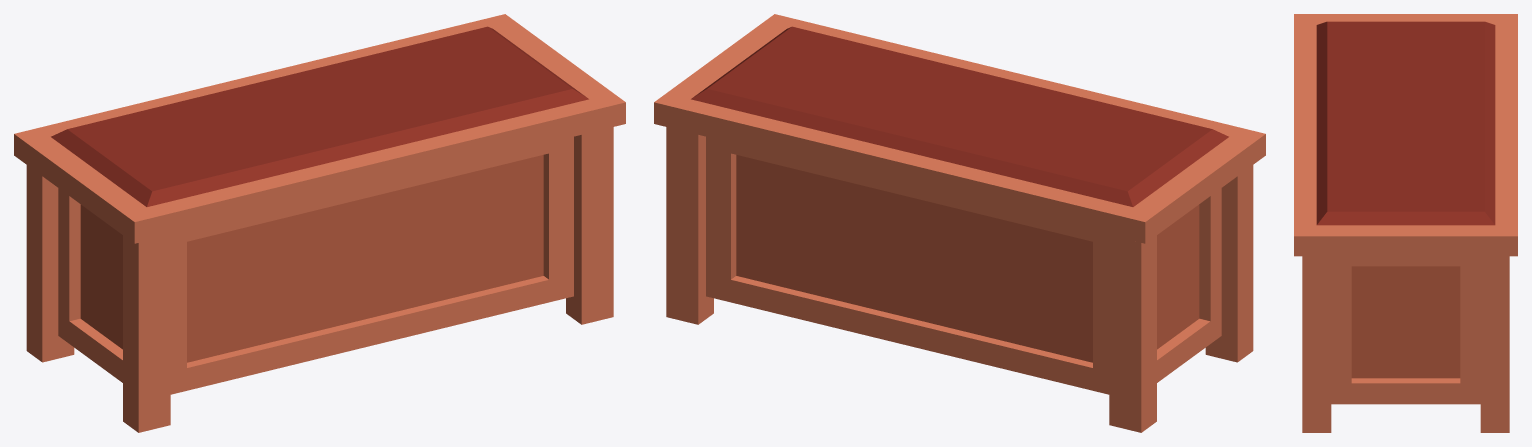
The model's file is SatanDesk.fbx.
3 views of the same model, side by side, from view 1: azimuth 30°, elevation 25°; view 2: azimuth 150°, elevation 25°; view 3: azimuth 270°, elevation 25° (orthographic). The views are drawn at different scales.
Visible parts, largest first — view 1: Cube; view 2: Cube; view 3: Cube.
Boxes of the visible parts, box(x1,y1,x2,y2) form: Cube: box(14, 14, 625, 432); Cube: box(654, 14, 1265, 432); Cube: box(1294, 14, 1517, 432).
Bounding box in the file's own units: 400 × 175 × 170.
